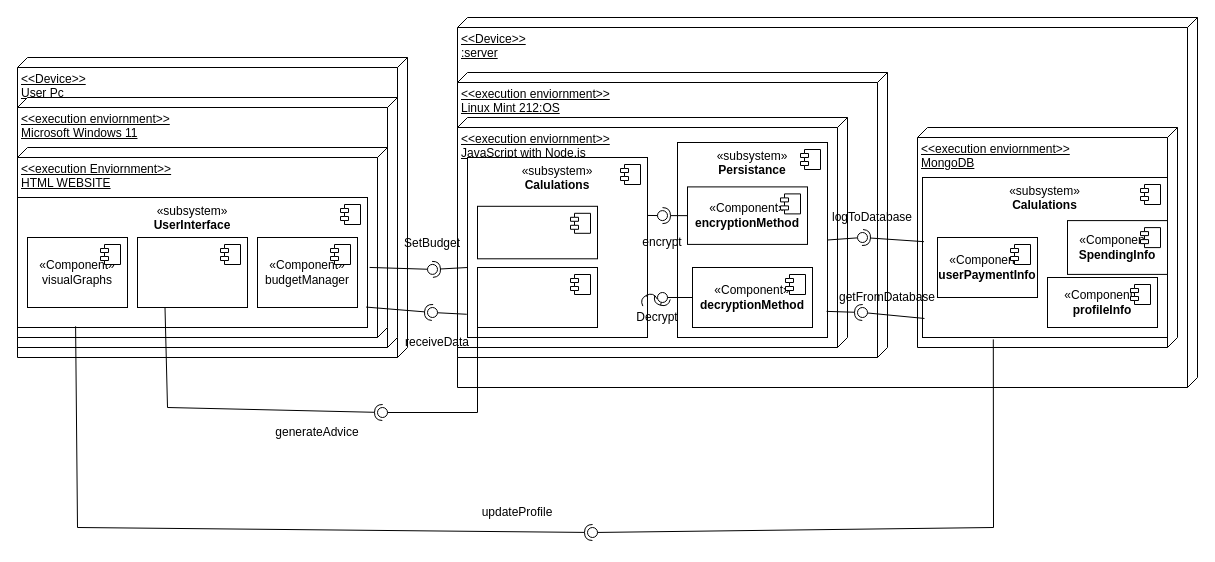
The diagram is 1215 pixels wide and 562 high, and some of its shapes have lost their labels. Here are the shapes that lost their labels. From the top down, the centre of each, then its label:
[537,232]: «Component» BudgetOperations
[192,272]: «Component» advicePage
[537,297]: «Component» AdviceGenerator
